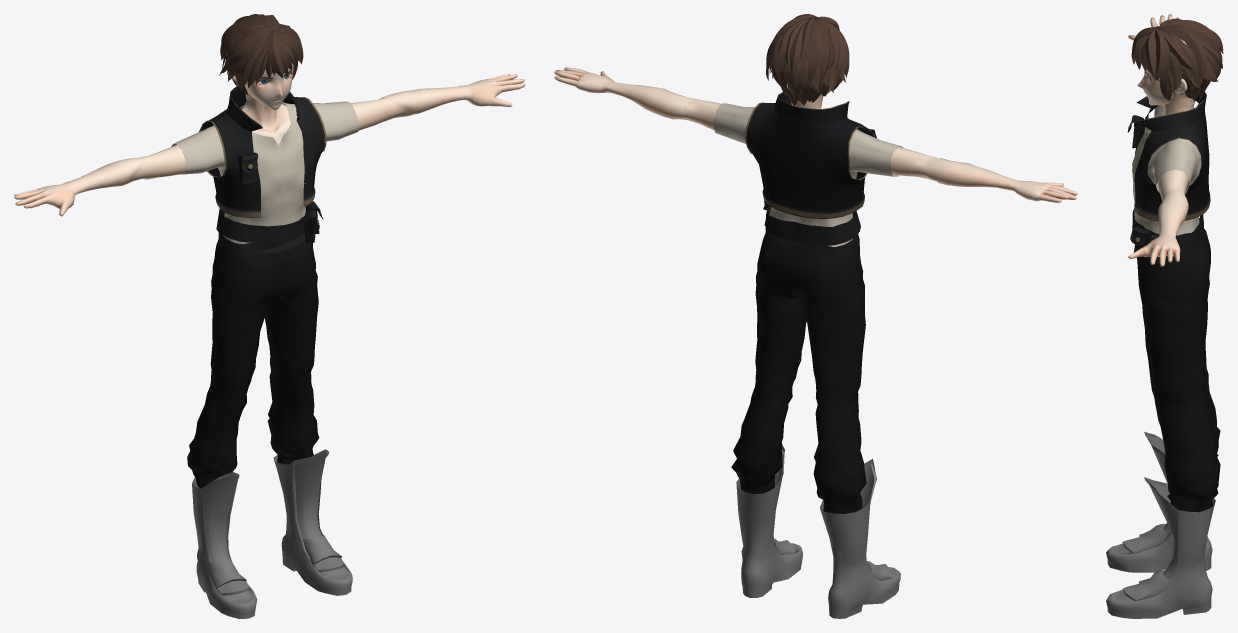
Rendered from PLAYER_2.FBX.
3 renders of one model, left to right at view 1: azimuth 30°, elevation 25°; view 2: azimuth 150°, elevation 25°; view 3: azimuth 270°, elevation 25°, orthographic. The views are drawn at different scales.
Parts seen in each view (by area): view 1: 티, Object009; view 2: 티, Object009; view 3: 티, Object009.
Boxes of the visible parts, bbox=[...] form: 티: bbox=[171, 85, 359, 618]; Object009: bbox=[14, 14, 525, 216]; 티: bbox=[713, 92, 903, 618]; Object009: bbox=[554, 14, 1077, 202]; 티: bbox=[1106, 92, 1220, 618]; Object009: bbox=[1128, 14, 1223, 266].
Bounding box in the file's own units: 68.94 × 72.92 × 13.75.
Materials: 2 (2 with a texture image).
